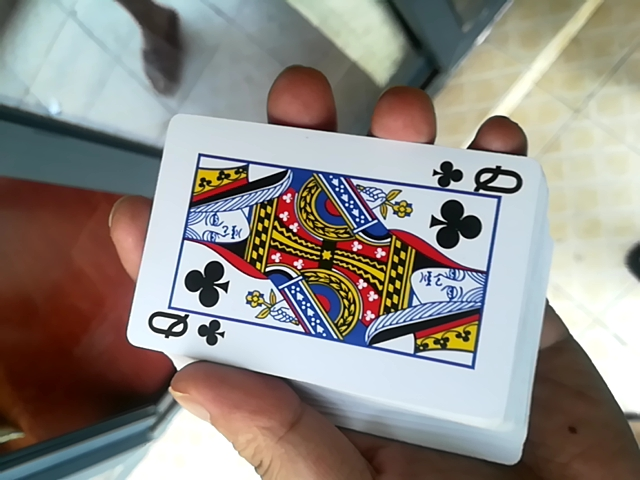mh q: (124, 121, 558, 430)
